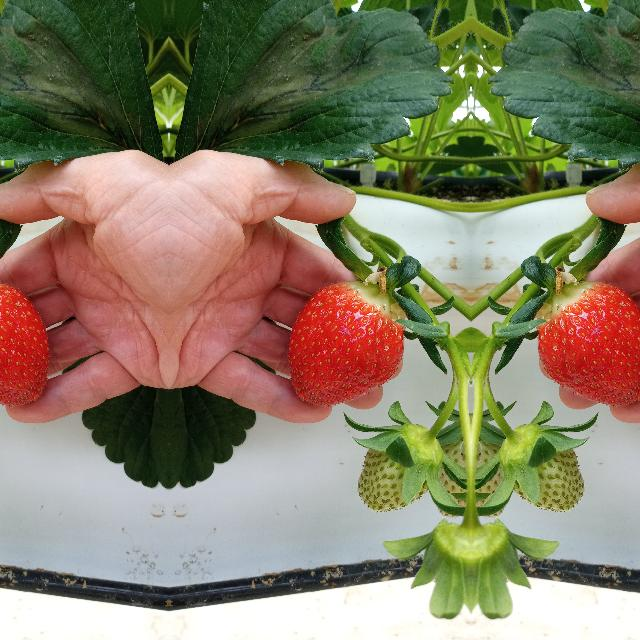Health_100: (288, 280, 404, 406), (536, 280, 640, 406), (0, 280, 48, 406)
Health_25: (350, 424, 438, 526), (503, 424, 591, 526)
